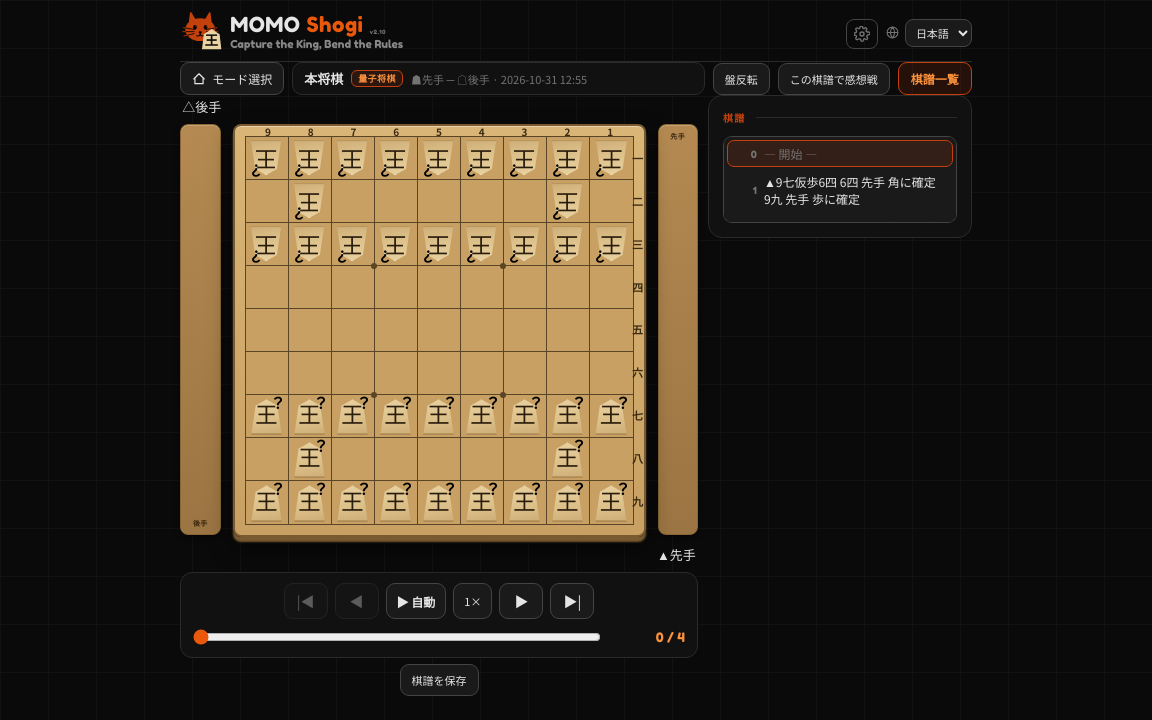
Test case: S08 v1.42 の直し › ★盤の駒に乗せると候補ボックスが出る（駒台だけではない）
Click the button "▶".
click(521, 601)  # box [499,583,543,619]
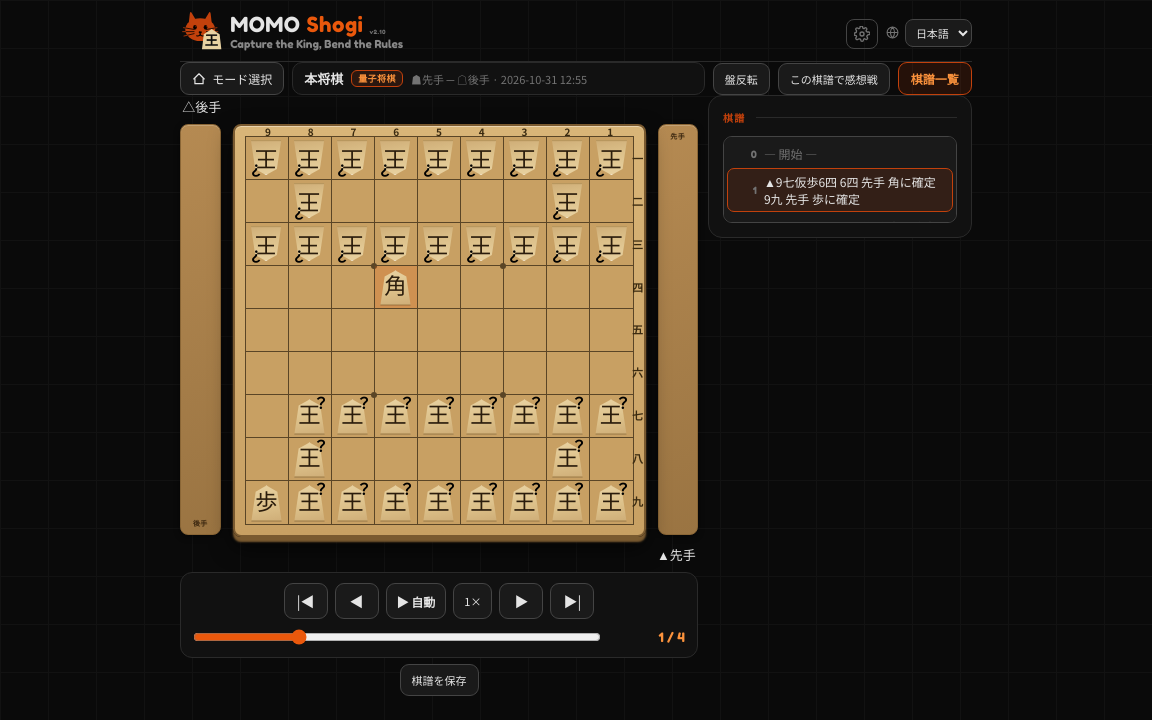
Hover over the element showing "王 ？".
mouse_move(267, 159)  # box [246,137,288,180]
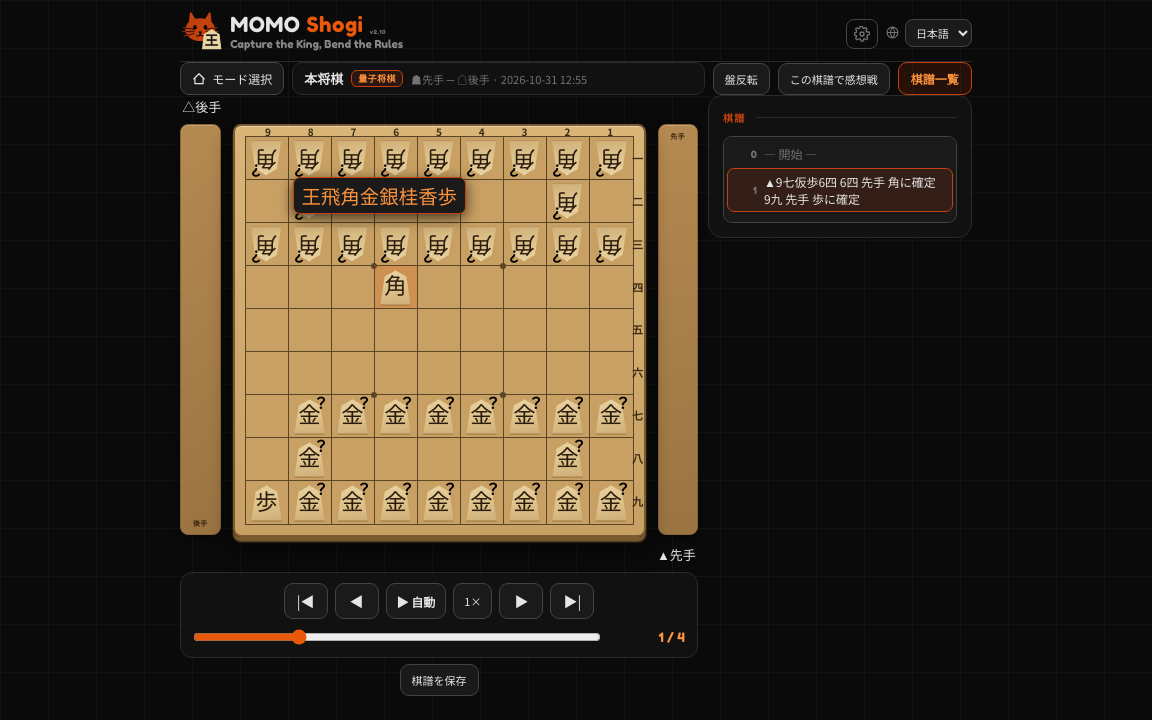
Check: the text "王飛角金銀桂香歩" is shown, box [292,177,466,214]
